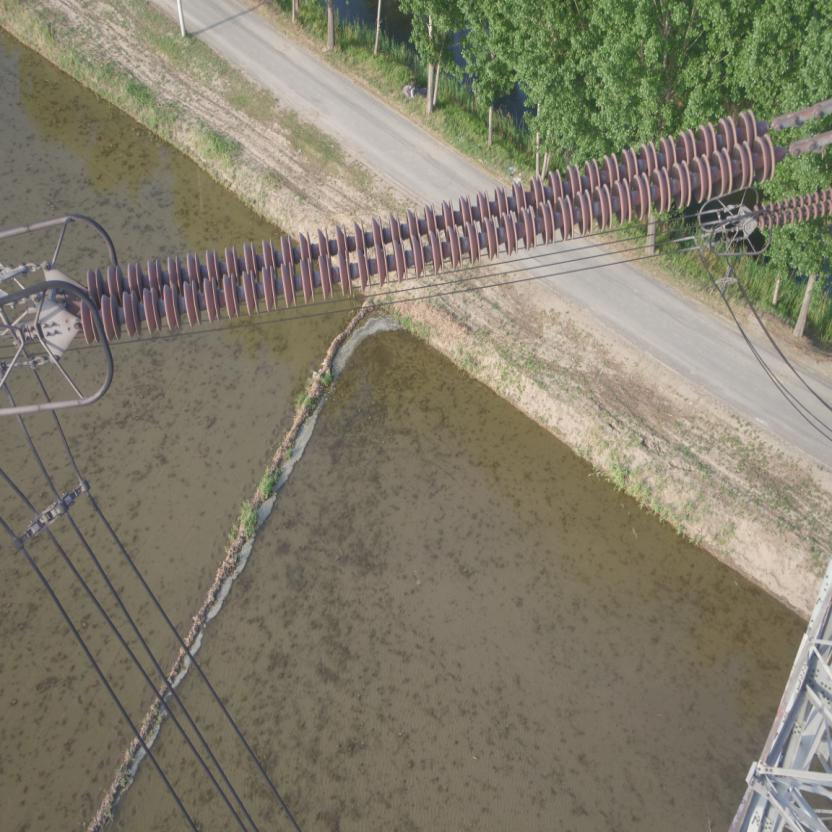insulator: (54, 105, 820, 353)
